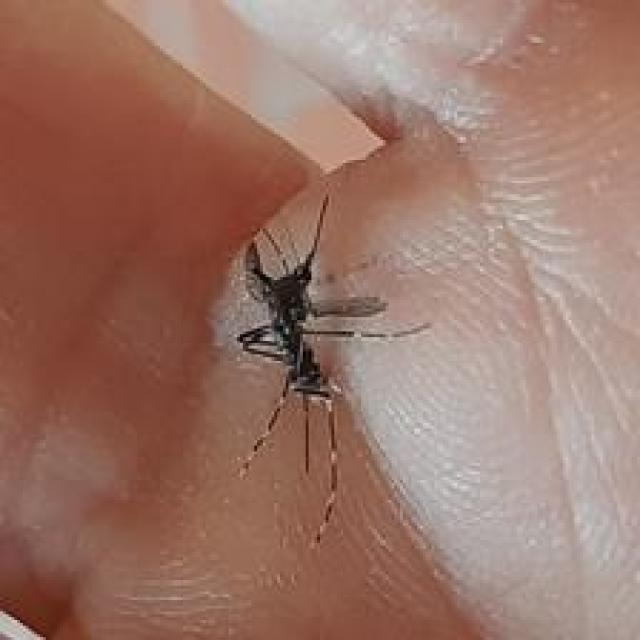Aedes albopictus: (232, 191, 432, 546)
